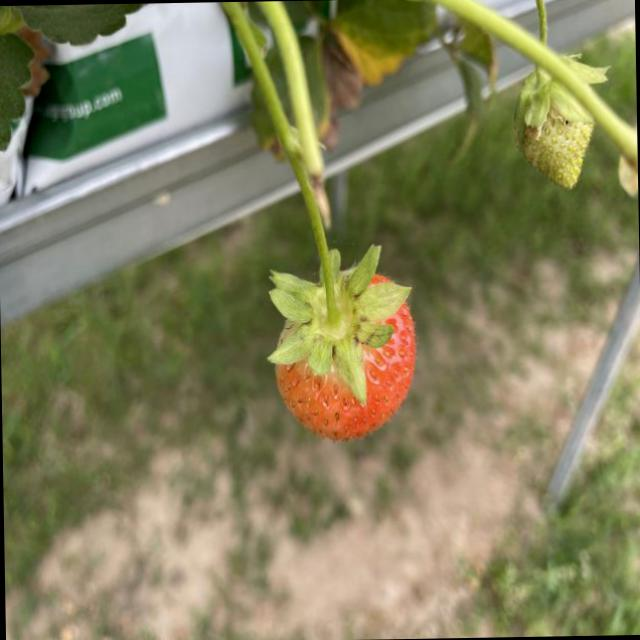stem: (267, 37, 409, 400)
strawberryNR: (518, 110, 590, 187)
strawberryR: (276, 303, 413, 440)
